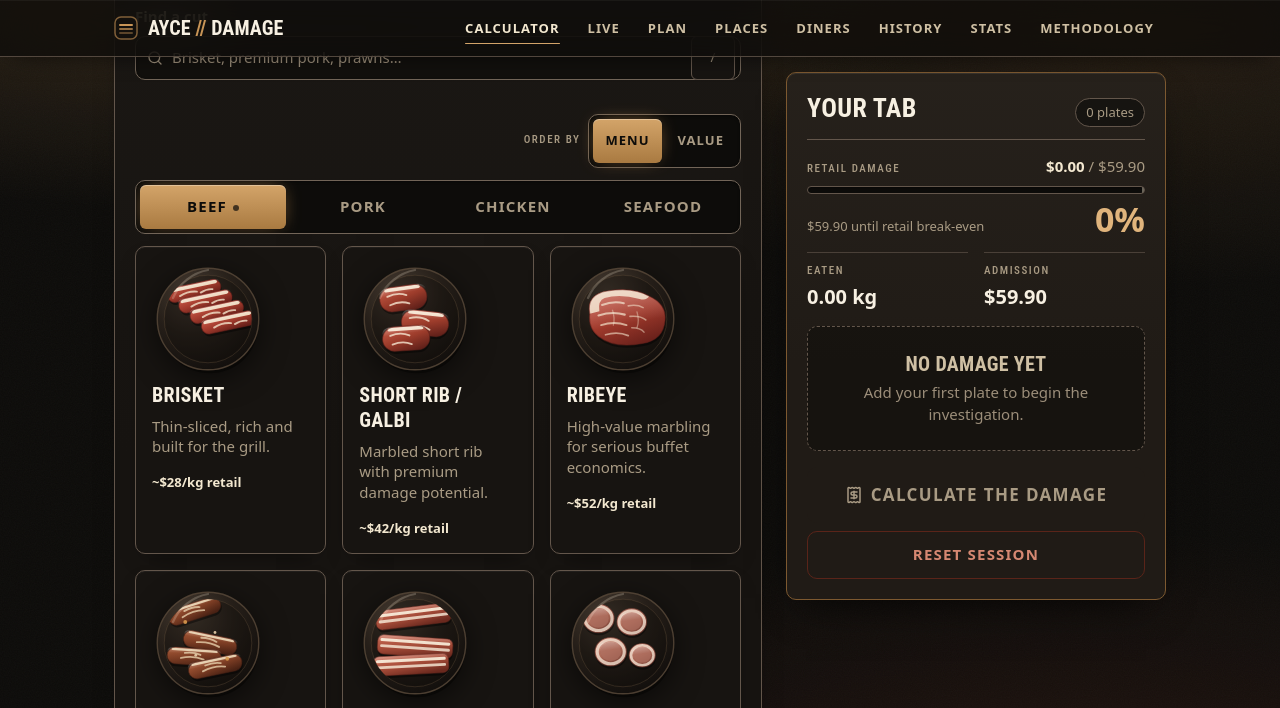
Test: CalculatorApp › increments and removes tab items
(page scrolled)
Click the button "Ribeye". click: (645, 400)
box: [550,246,741,554]
(page scrolled)
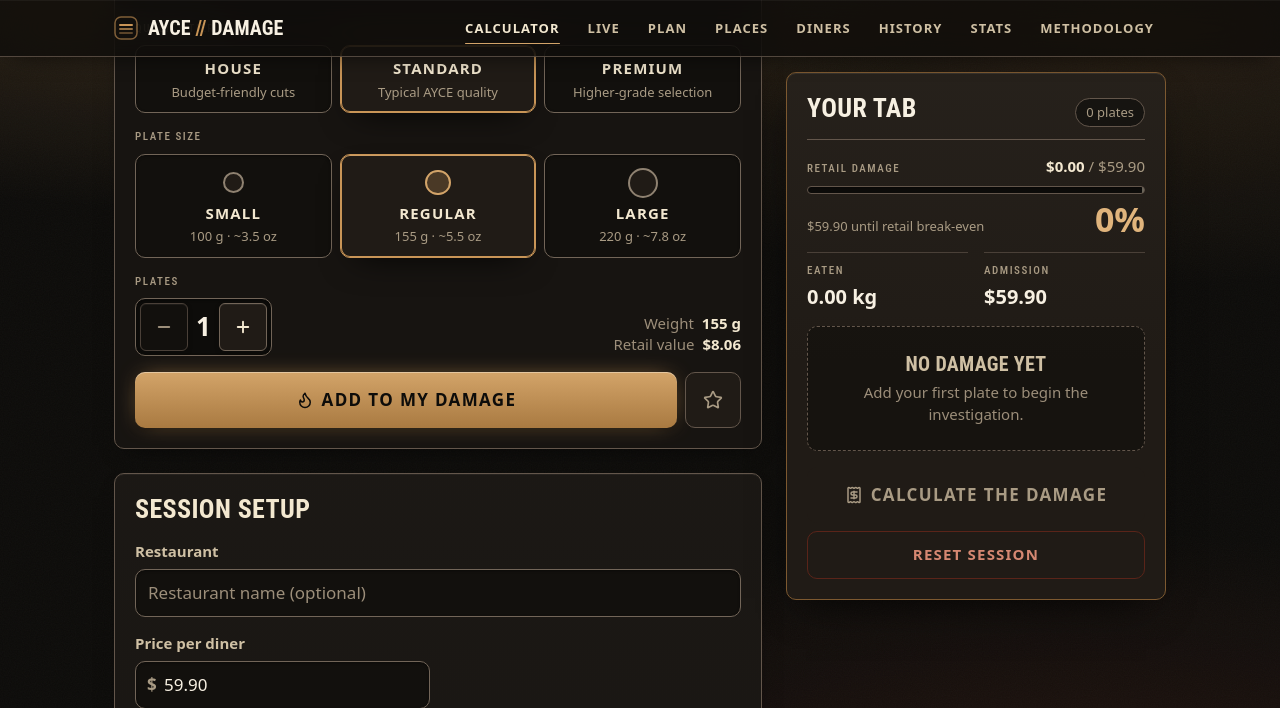
Click the button "Add to my damage". click: (406, 400)
box: [135,372,677,428]
(page scrolled)
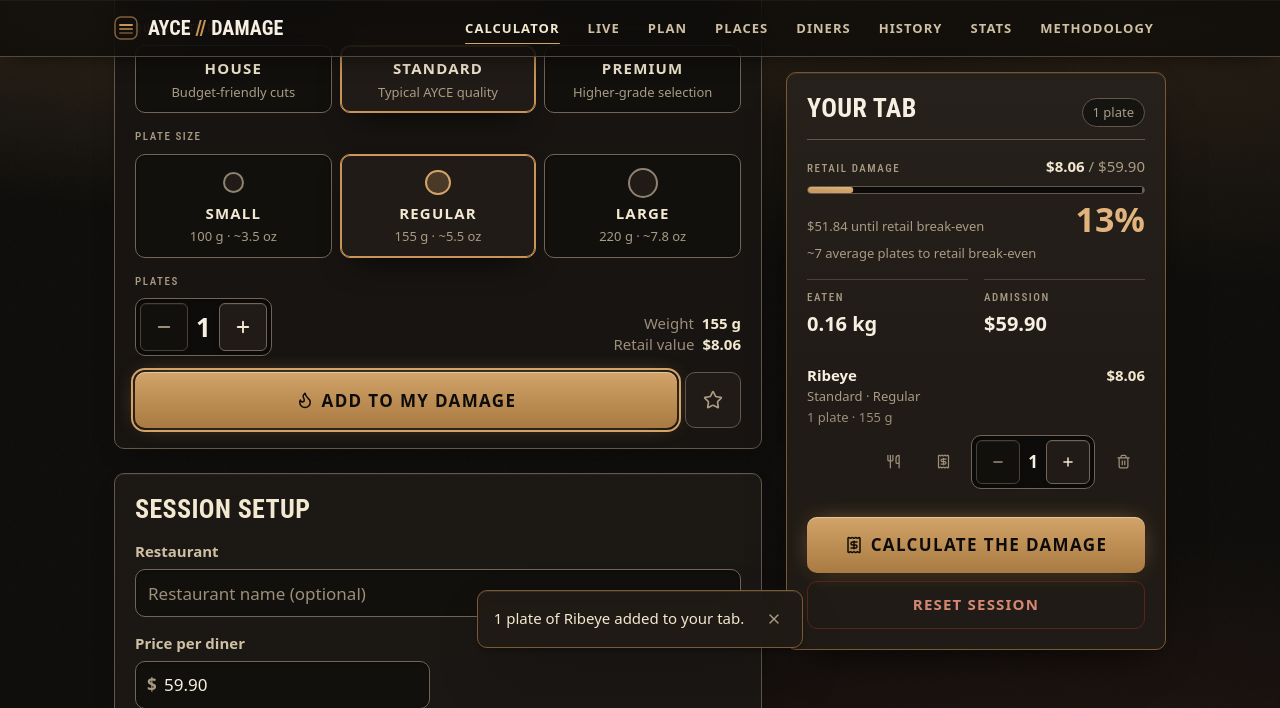
Click the button named "add one plate of Ribeye". click: (1068, 461)
box: [1046,439,1090,483]
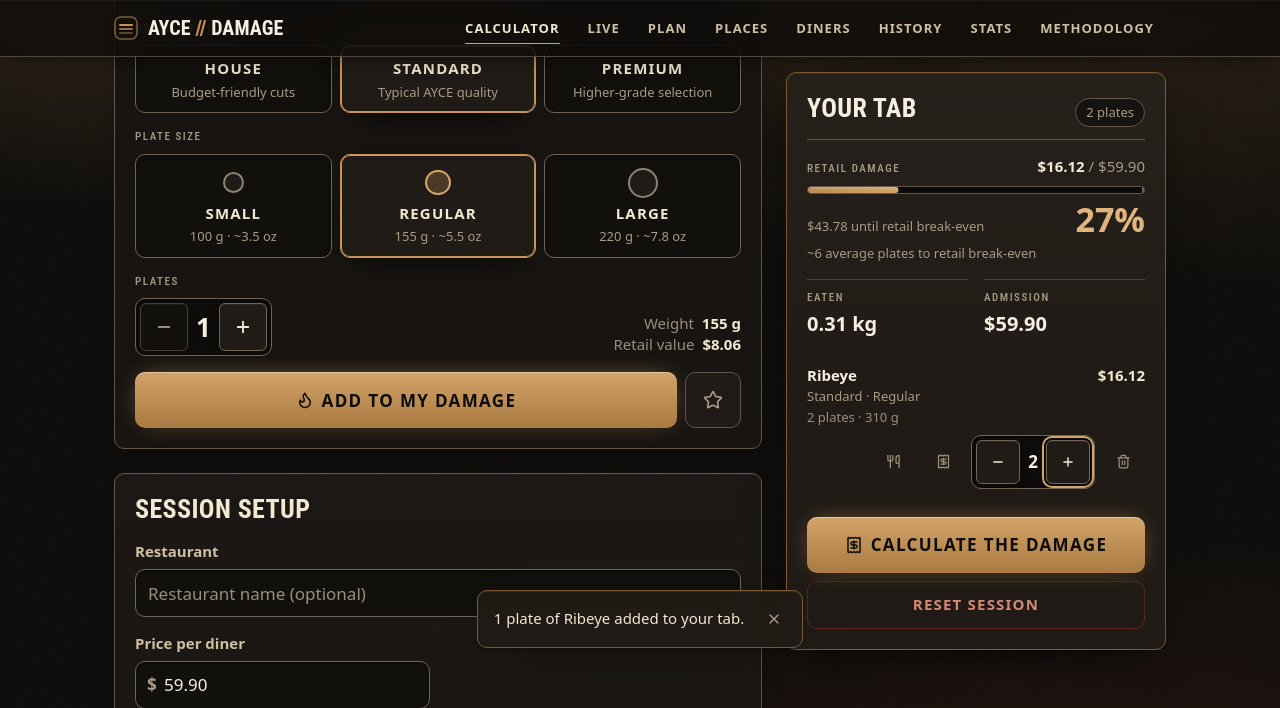
Check: the text "2 plates · 310 g" is shown, box [807,408,899,426]
Click the button named "Remove Ribeye, Standard, Regular from your tab". click: (1123, 461)
box: [1101,439,1145,483]
(page scrolled)
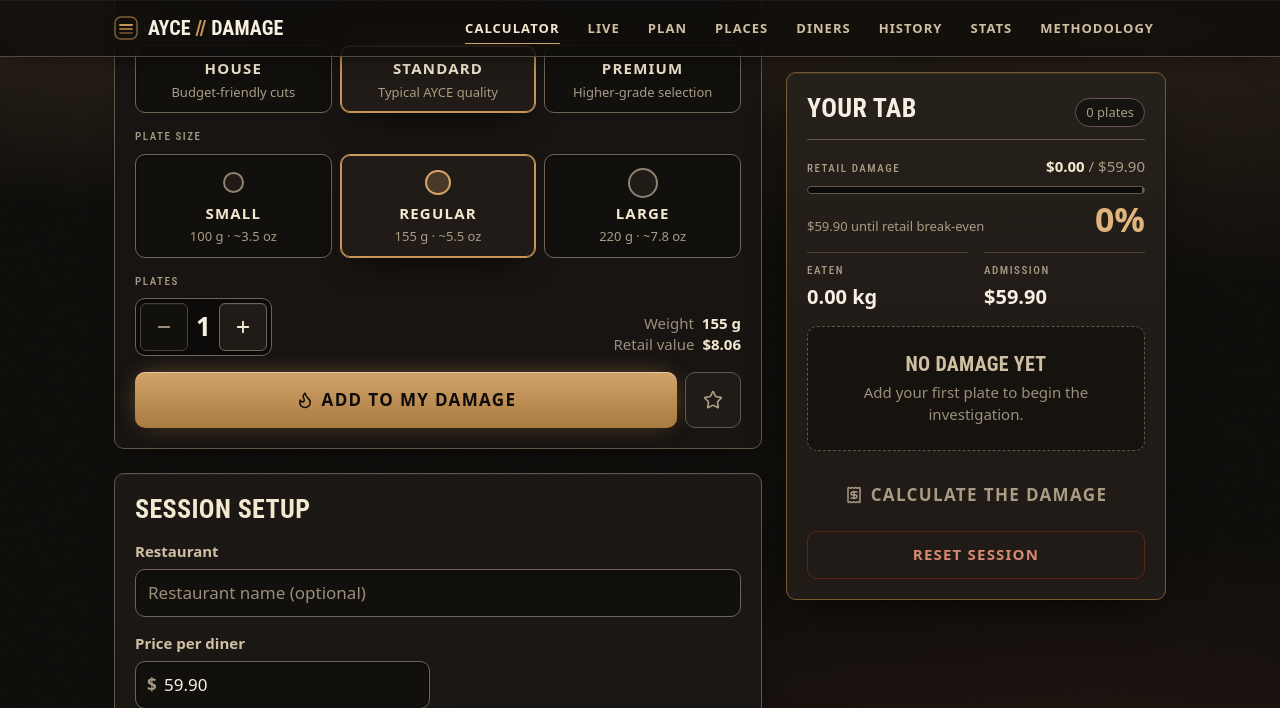
Check: the text "No damage yet" is shown, box [906,352,1046,376]
